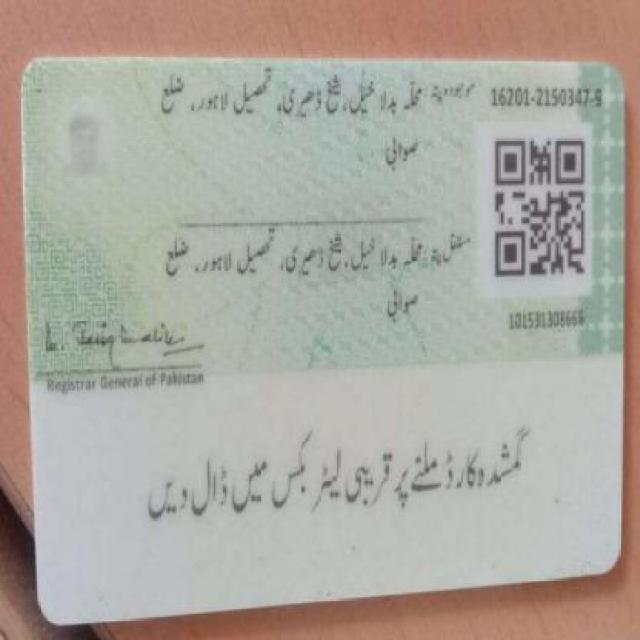Back: (12, 46, 632, 608)
